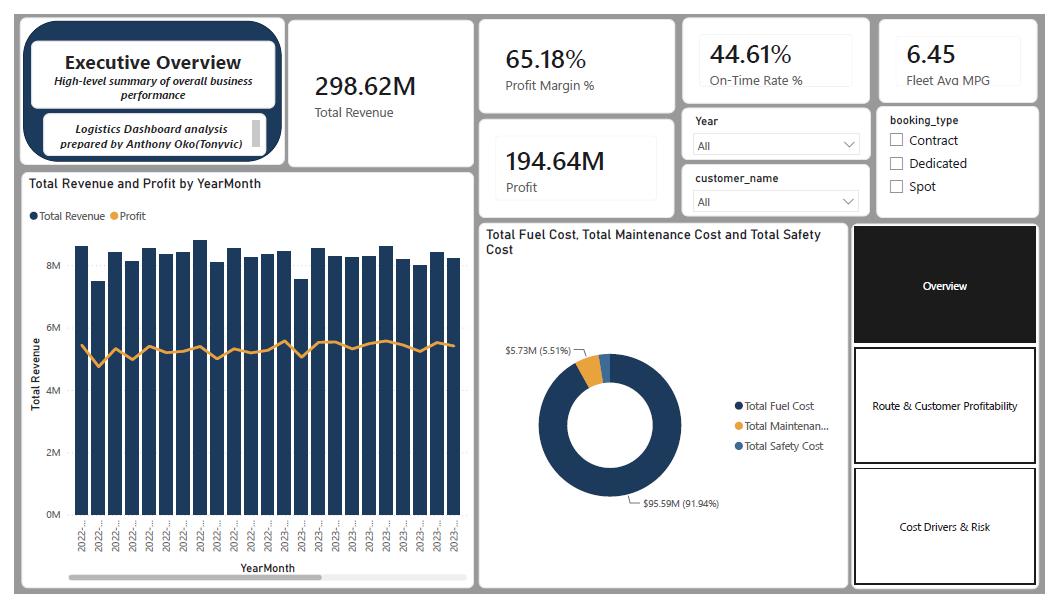

What the dashboard file says about the page in this screenshot:
{"tool":"powerbi","page":{"name":"Overview","canvas":[1280,720],"ordinal":0},"visuals":[{"type":"cardVisual","fields":{"Data":["_Measures.Total Revenue"]},"box":[339.8,5.8,231.8,182.9],"z":0},{"type":"cardVisual","fields":{"Data":["_Measures.On-Time Rate %"]},"box":[830,4.3,232.9,107.1],"z":1000},{"type":"cardVisual","fields":{"Data":["_Measures.Fleet Avg MPG"]},"box":[1074.3,5.7,197.1,104.3],"z":2000},{"type":"cardVisual","fields":{"Data":["_Measures.Profit"]},"box":[577.4,112.3,241.9,141.1],"z":3000},{"type":"cardVisual","fields":{"Data":["_Measures.Profit Margin %"]},"box":[577.4,4.3,243.4,105.1],"z":4000},{"type":"lineClusteredColumnComboChart","fields":{"Category":["Date.YearMonth"],"Y":["_Measures.Total Revenue"],"Y2":["_Measures.Profit"]},"box":[8.6,195.7,562.9,517.1],"z":5000},{"type":"donutChart","fields":{"Y":["_Measures.Total Fuel Cost","_Measures.Total Maintenance Cost","_Measures.Total Safety Cost"]},"box":[577.1,258.6,458.6,454.3],"z":6000},{"type":"slicer","fields":{"Values":["Date.Year"]},"box":[828.6,115.7,235.7,65.7],"z":7000},{"type":"slicer","fields":{"Values":["customers.customer_name"]},"box":[828.6,185.7,234.3,65.7],"z":8000},{"type":"slicer","fields":{"Values":["loads.booking_type"]},"box":[1071.4,114.3,201.4,138.6],"z":9000},{"type":"pageNavigator","box":[1040,260,232.9,454.3],"z":10000},{"type":"shape","box":[7.1,4.3,328.6,182.9],"z":11000},{"type":"textbox","box":[21.4,32.9,302.9,84.3],"z":12000},{"type":"textbox","box":[35.7,122.9,277.1,52.9],"z":13000}]}

Visuals, with their boxes in screenshot pixels (x1, y1, x2, y2), scaled from the page's 1280x720 canvas onto the 1059x606 screenshot:
cardVisual - _Measures.Total Revenue: 281 5 473 159
cardVisual - _Measures.On-Time Rate %: 687 4 879 94
cardVisual - _Measures.Fleet Avg MPG: 889 5 1052 93
cardVisual - _Measures.Profit: 478 95 678 213
cardVisual - _Measures.Profit Margin %: 478 4 679 92
lineClusteredColumnComboChart - Date.YearMonth x _Measures.Total Revenue: 7 165 473 600
donutChart - _Measures.Total Fuel Cost x _Measures.Total Maintenance Cost: 477 218 857 600
slicer - Date.Year: 686 97 881 153
slicer - customers.customer_name: 686 156 879 212
slicer - loads.booking_type: 886 96 1053 213
pageNavigator: 860 219 1053 601
shape: 6 4 278 158
textbox: 18 28 268 99
textbox: 30 103 259 148
